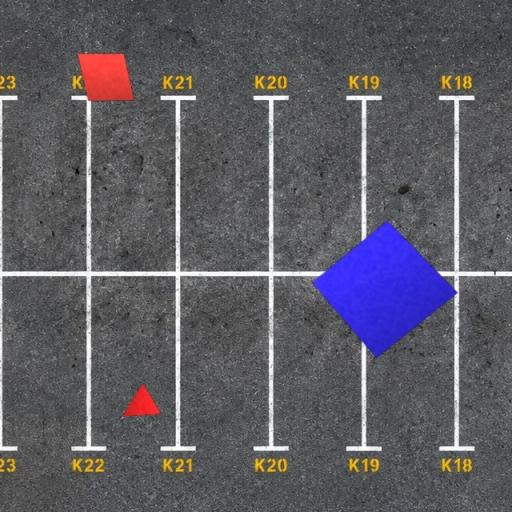BLUE_SQUARE: (312, 220, 458, 358)
RED_SQUARE: (76, 52, 134, 102)
